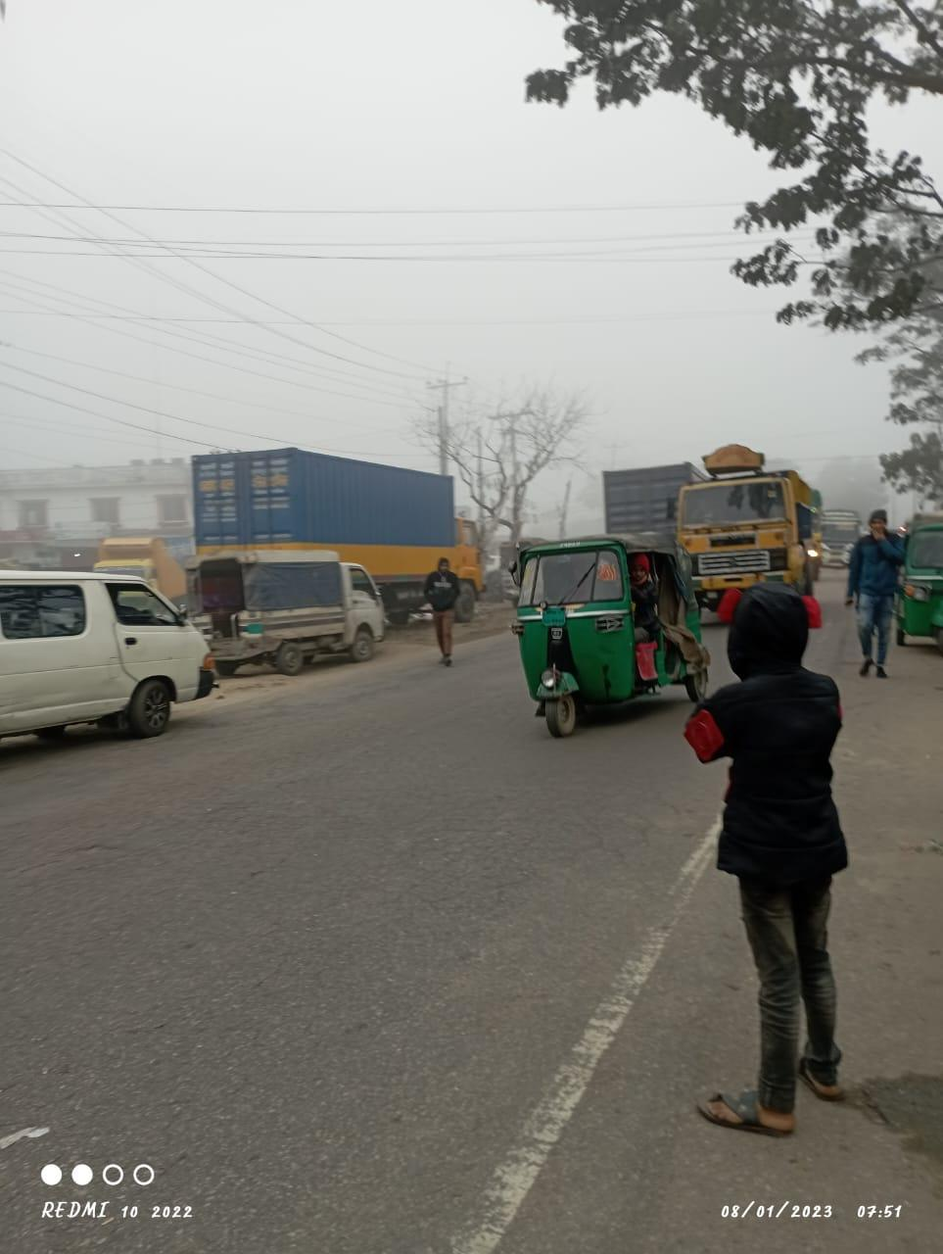Car: (1, 552, 229, 742), (182, 537, 401, 678)
Truck: (181, 443, 498, 611), (672, 443, 815, 611)
